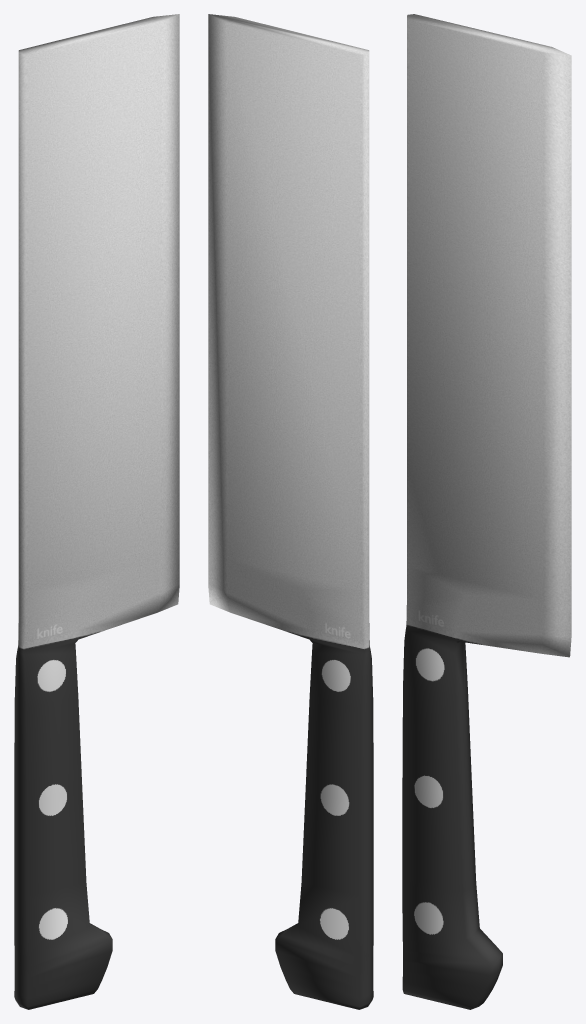
Rendered from knife2.glb.
3 renders of one model, left to right at view 1: azimuth 30°, elevation 25°; view 2: azimuth 150°, elevation 25°; view 3: azimuth 330°, elevation 25°, orthographic. The views are drawn at different scales.
Parts seen in each view (by area): view 1: knife2; view 2: knife2; view 3: knife2.
Boxes of the visible parts, x1,y1,x2,y2 form: knife2: [14, 14, 179, 1009]; knife2: [208, 14, 373, 1009]; knife2: [402, 14, 571, 1009].
Bounding box in the file's own units: 0.1179 × 0.6668 × 0.0179.
Materials: 1 (1 with a texture image).
